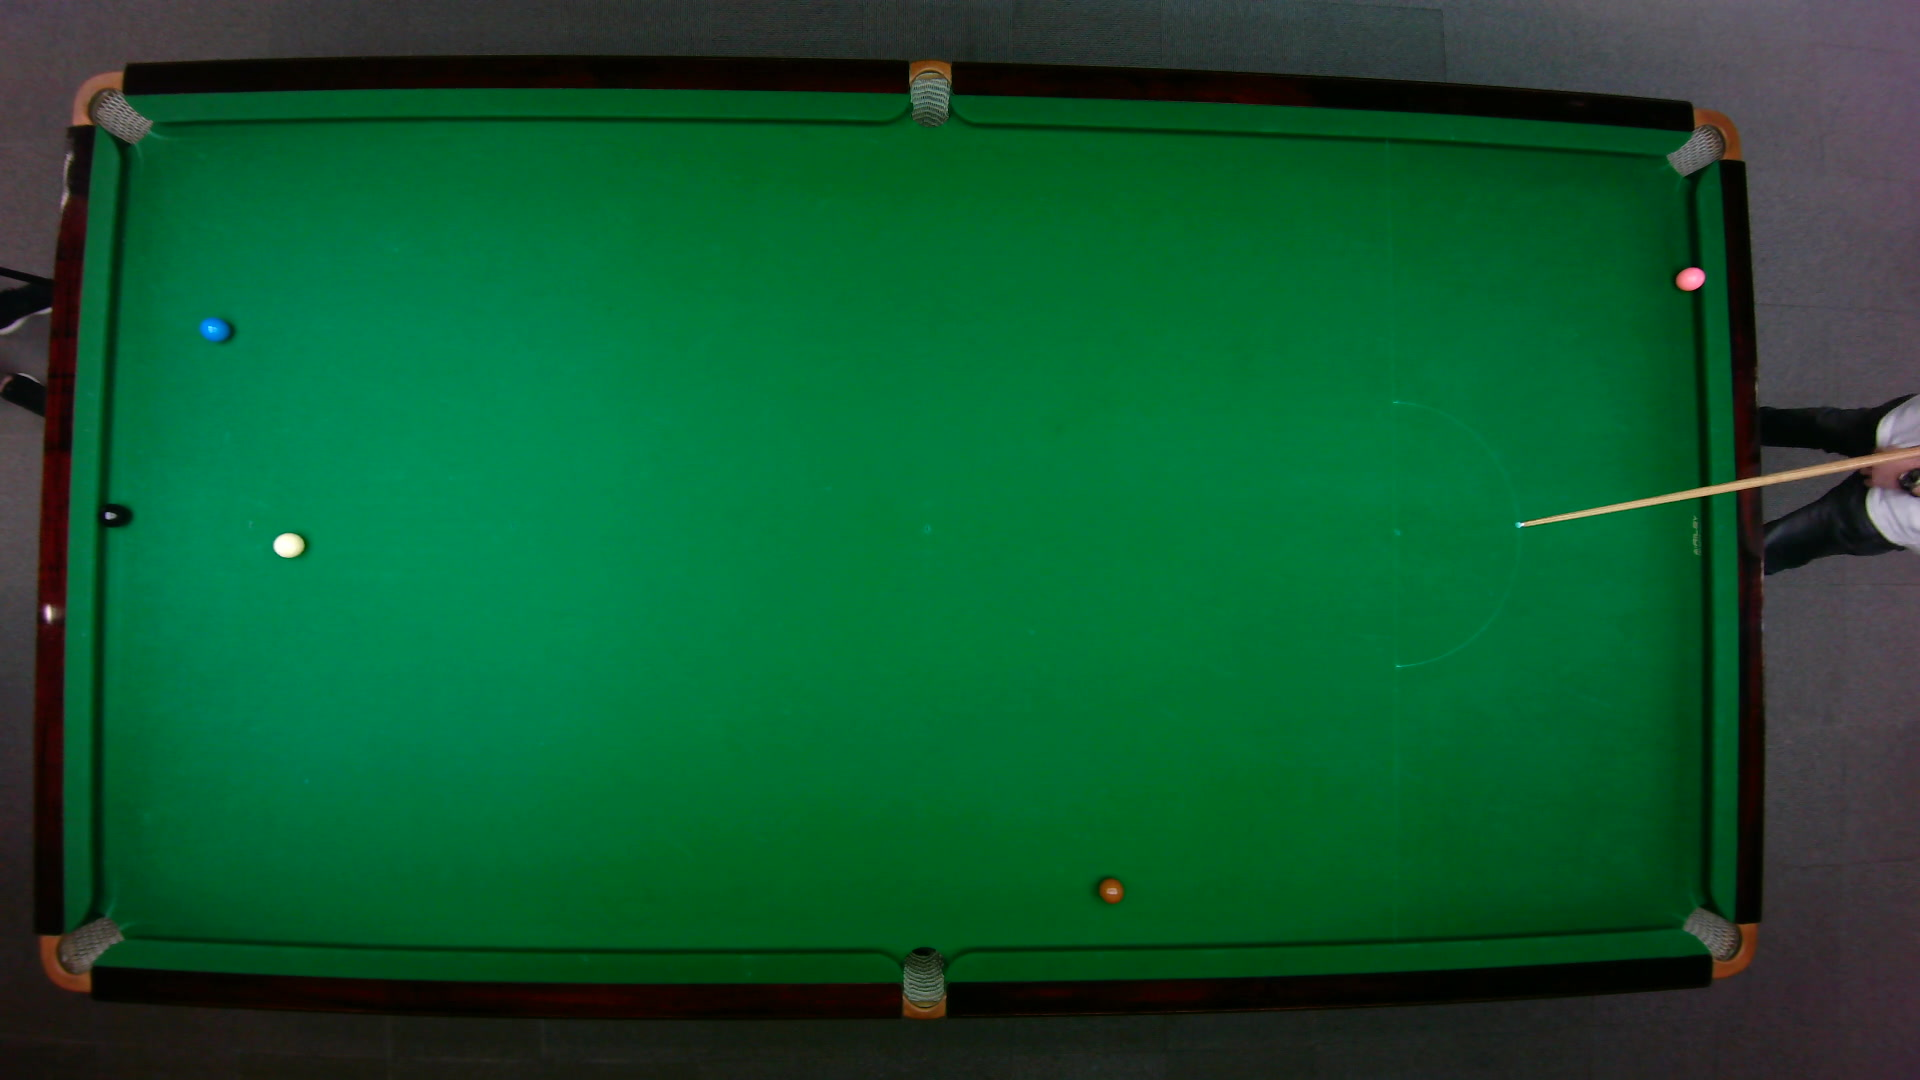bag: (37, 914, 125, 992), (69, 69, 153, 145), (1679, 905, 1756, 978), (1663, 107, 1742, 177), (901, 944, 944, 1021), (909, 57, 949, 128)
black: (96, 502, 127, 527)
blue: (196, 314, 231, 342)
brown: (1097, 876, 1125, 905)
cue: (1515, 444, 1920, 527)
pink: (1673, 264, 1706, 291)
white: (270, 529, 306, 559)
zone: (1391, 398, 1520, 669)
